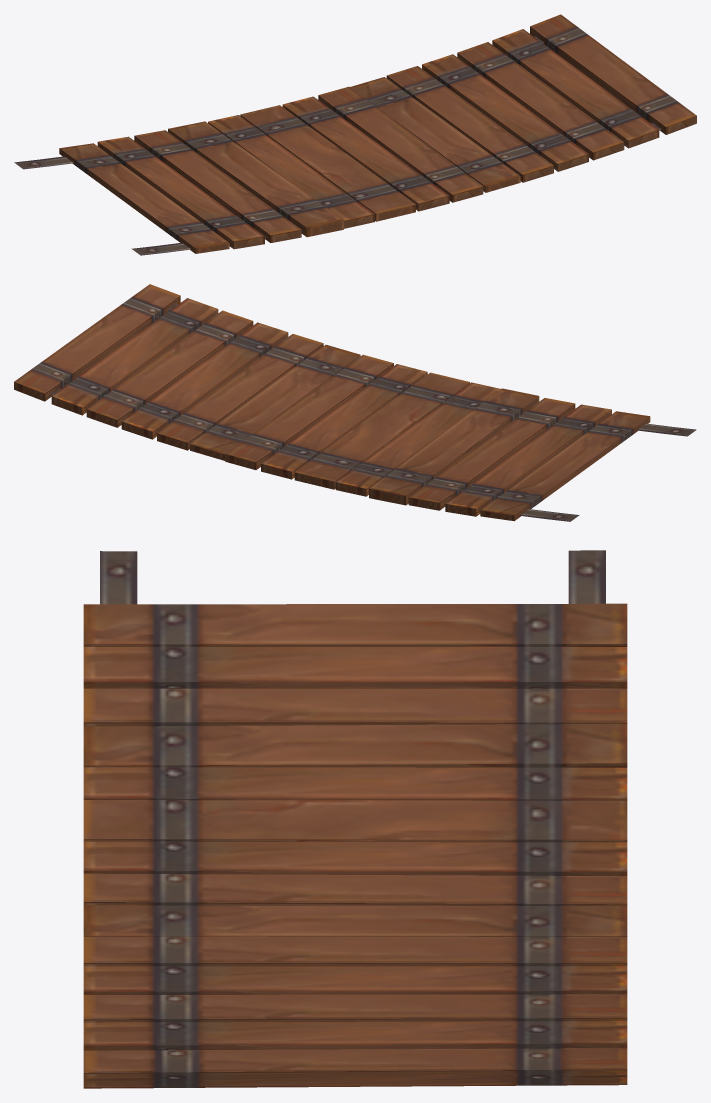
The model's file is FB6_muqiao01.FBX.
3 renders of one model, top to bottom at view 1: azimuth 30°, elevation 25°; view 2: azimuth 150°, elevation 25°; view 3: azimuth 270°, elevation 25°, orthographic. The views are drawn at different scales.
Visible parts, largest first — view 1: FB6_muqiao01_001, FB6_muqiao01_002; view 2: FB6_muqiao01_001, FB6_muqiao01_002; view 3: FB6_muqiao01_001, FB6_muqiao01_002.
Part boxes in pixels (x1,y1,x2,y2): FB6_muqiao01_001: [14, 29, 661, 255]; FB6_muqiao01_002: [530, 14, 696, 134]; FB6_muqiao01_001: [50, 298, 696, 521]; FB6_muqiao01_002: [14, 284, 180, 401]; FB6_muqiao01_001: [83, 550, 627, 1050]; FB6_muqiao01_002: [83, 1048, 627, 1088].
Bounding box in the file's own units: 2033 × 106 × 868.
1 material, 1 textured.
